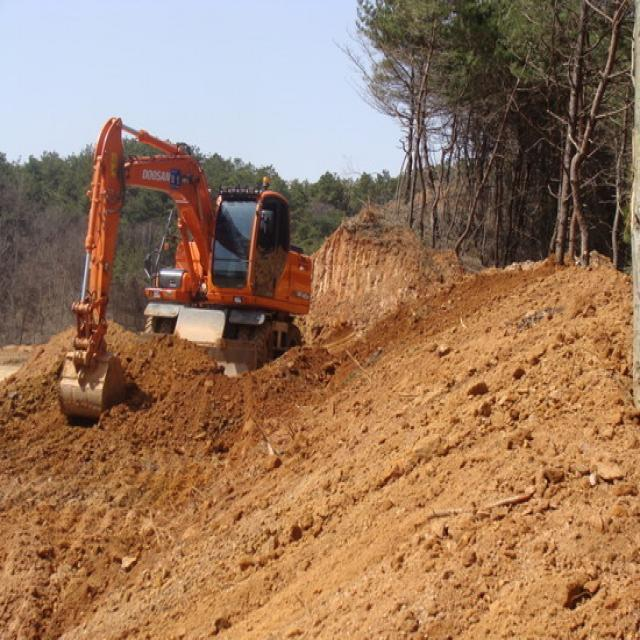excavator: (60, 116, 314, 421)
